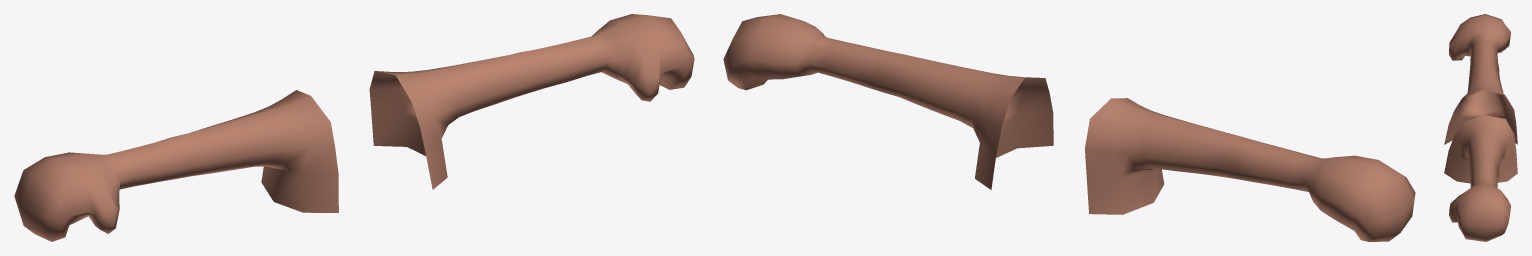
The model's file is Body_Brown_ArmB_1.fbx.
3 renders of one model, left to right at view 1: azimuth 30°, elevation 25°; view 2: azimuth 150°, elevation 25°; view 3: azimuth 270°, elevation 25°, orthographic. The views are drawn at different scales.
Parts seen in each view (by area): view 1: Body_Brown_ArmB_1; view 2: Body_Brown_ArmB_1; view 3: Body_Brown_ArmB_1.
Part boxes in pixels (left/top/right/bottom): Body_Brown_ArmB_1: left=14, top=14, right=694, bottom=241; Body_Brown_ArmB_1: left=723, top=14, right=1415, bottom=241; Body_Brown_ArmB_1: left=1444, top=14, right=1517, bottom=241.
Bounding box in the file's own units: 130 × 17.74 × 20.37.
